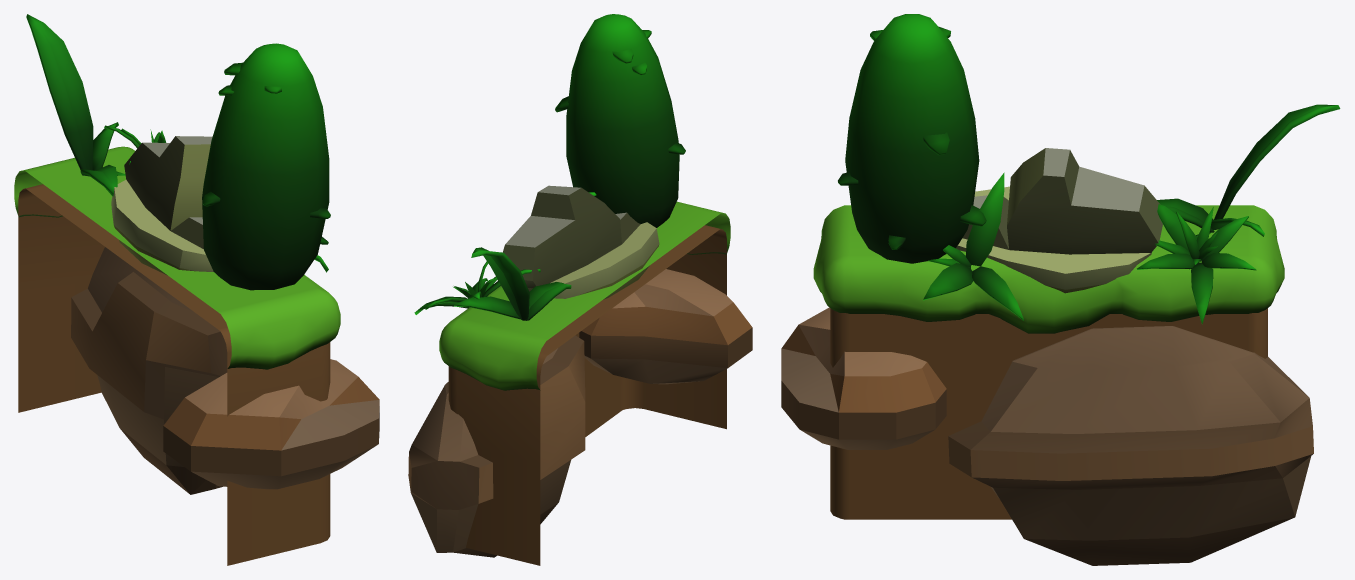
Rendered from Tutor_Island_03.fbx.
3 views of the same model, side by side, from view 1: azimuth 30°, elevation 25°; view 2: azimuth 150°, elevation 25°; view 3: azimuth 270°, elevation 25° (orthographic). The views are drawn at different scales.
Visible parts, largest first — view 1: Island_03; view 2: Island_03; view 3: Island_03.
Part boxes in pixels (left/top/right/bottom): Island_03: left=14, top=14, right=379, bottom=565; Island_03: left=408, top=14, right=752, bottom=565; Island_03: left=781, top=14, right=1340, bottom=565.
Bounding box in the file's own units: 3736 × 8901 × 8434.
